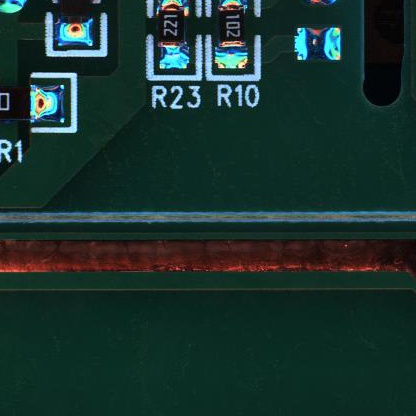spot: (293, 27, 342, 64)
